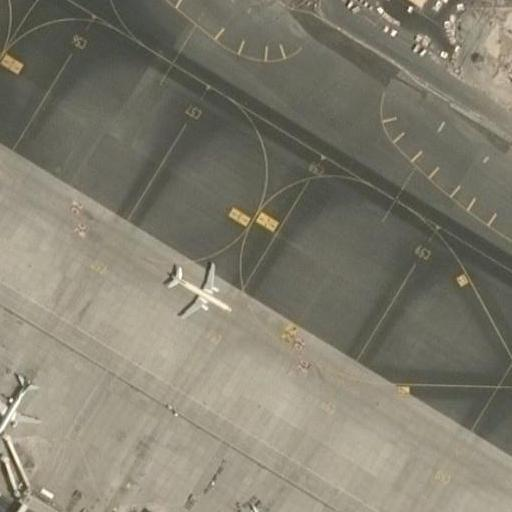Aircraft: (165, 251, 231, 319), (0, 368, 40, 434), (214, 499, 271, 512)
